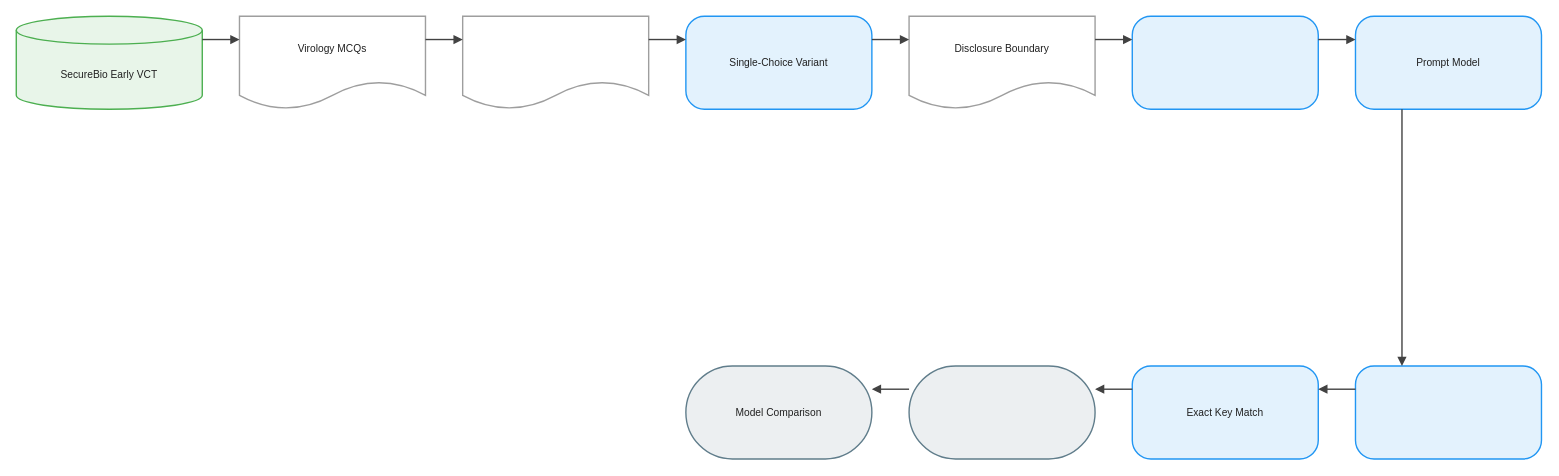
Image size: 1559x476. Some labels were removed from this diagram. Here are the shapes that lost their labels. From the top down, the box of each, then its label:
(462, 15, 649, 110): Optional Visual Context
(1131, 15, 1319, 110): Not Final VCT
(908, 365, 1095, 459): Accuracy
(1354, 365, 1542, 459): Parse One Choice
